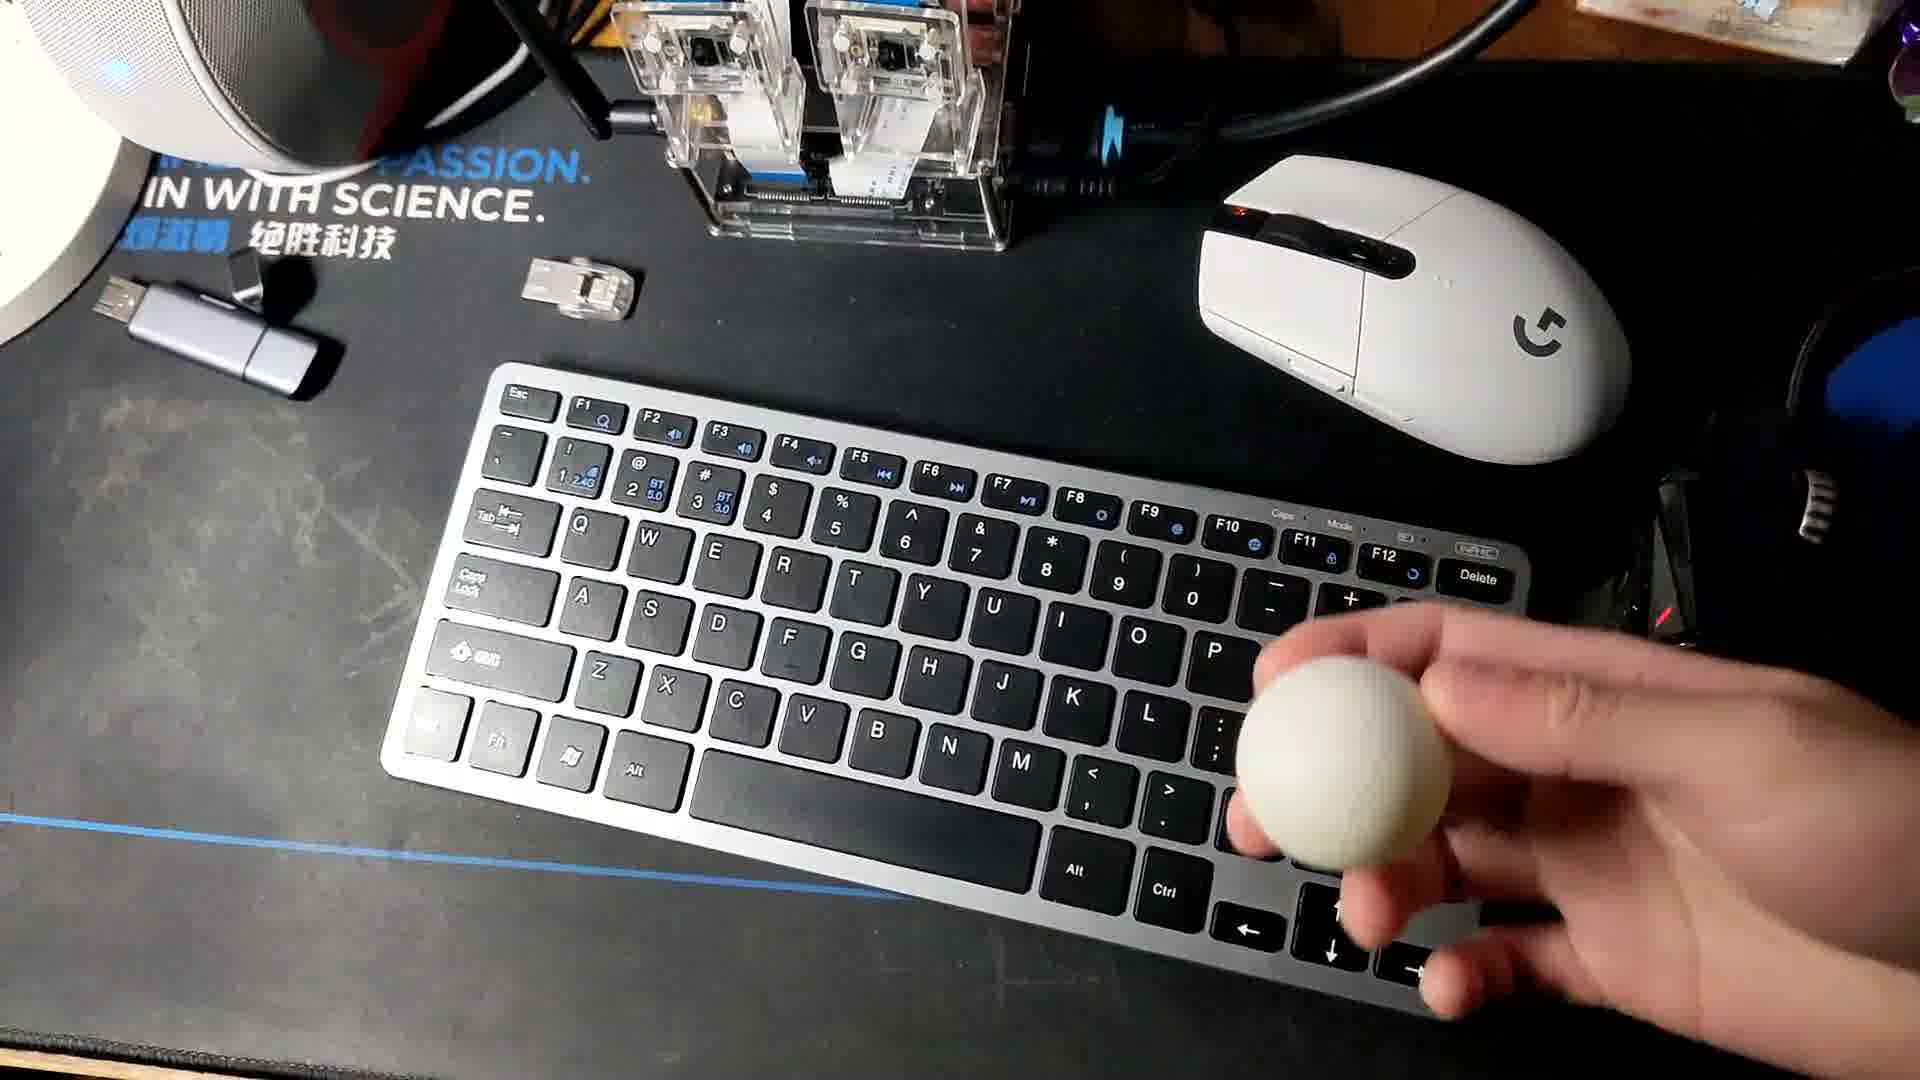Ball: (1233, 653, 1455, 865)
